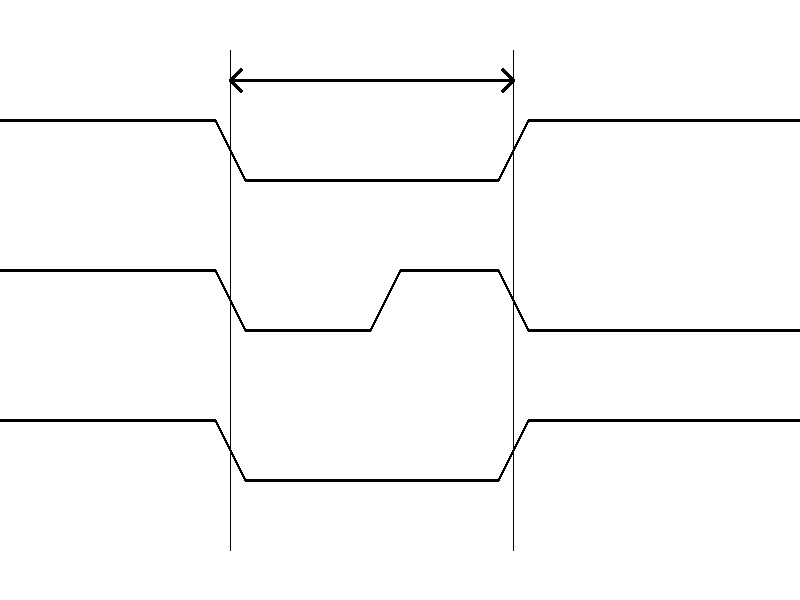double_arrow: (230, 65, 513, 95)
